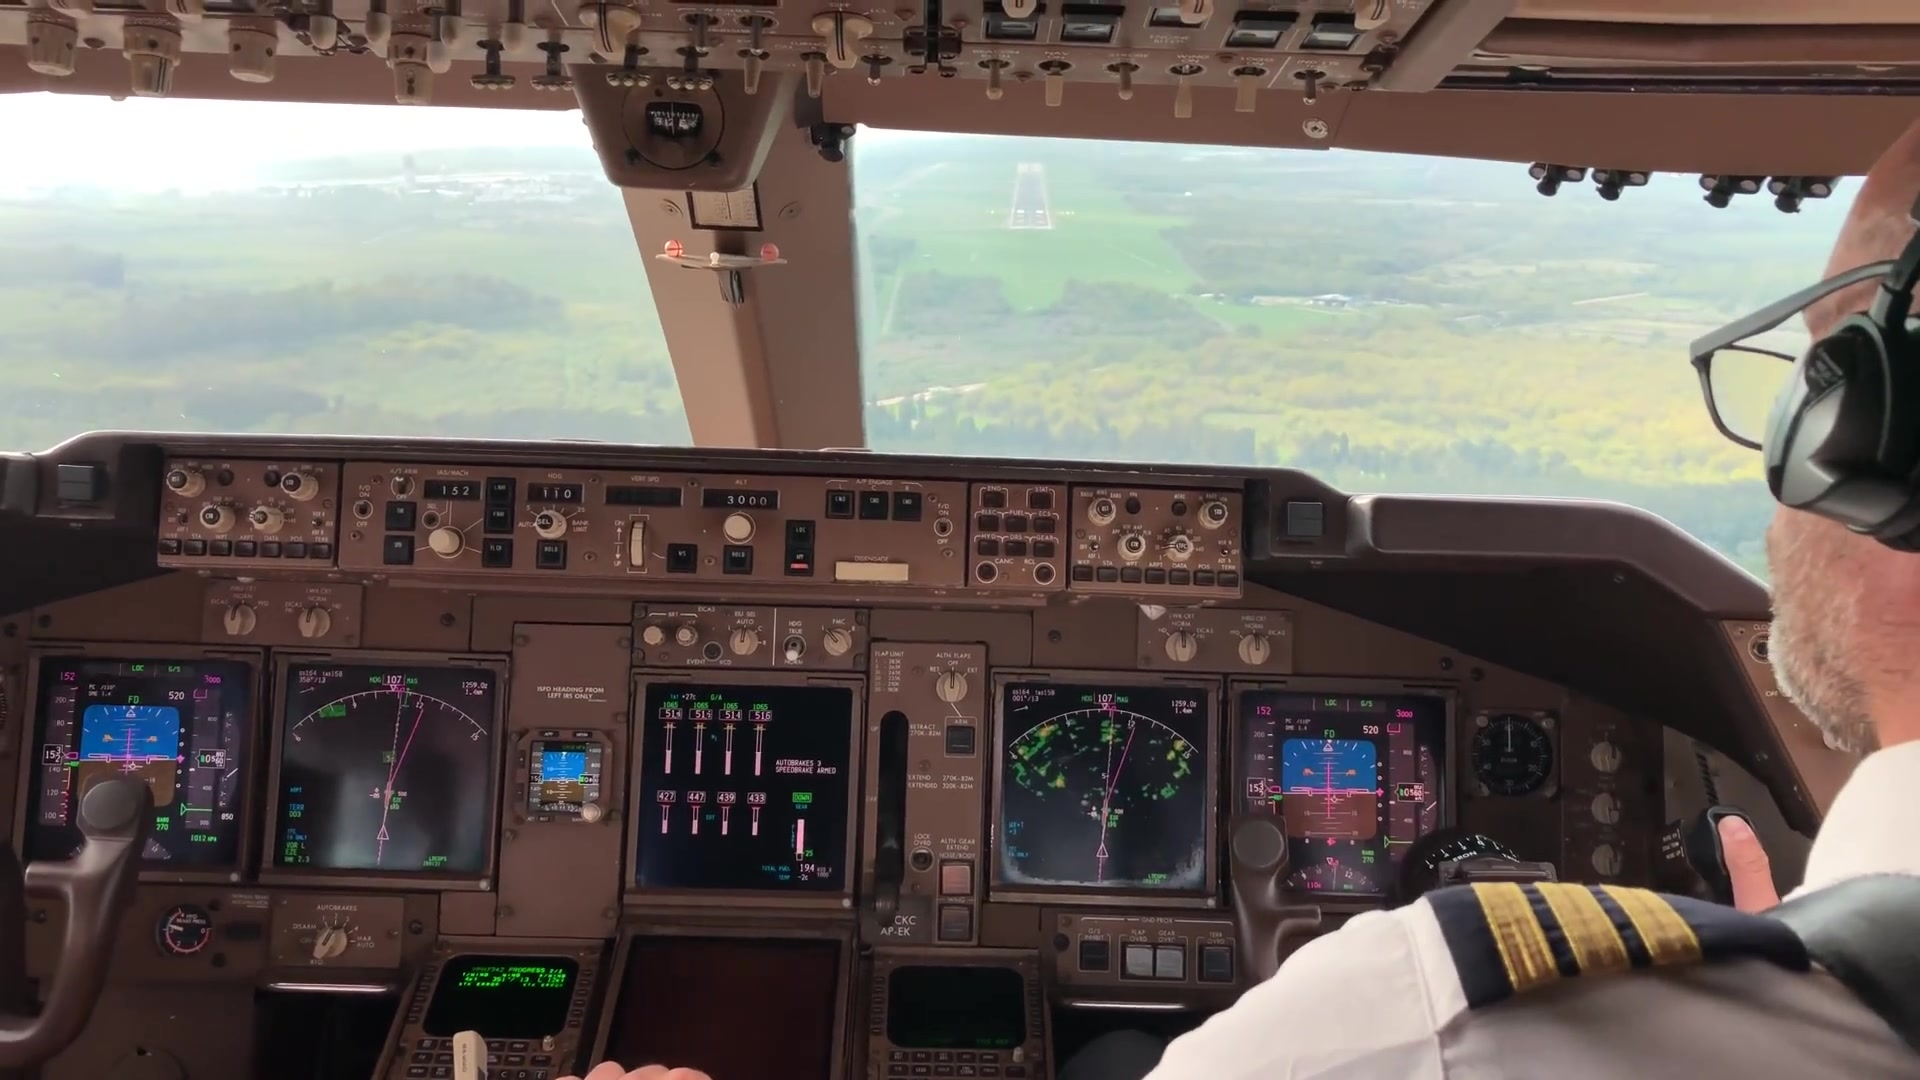runway: (1007, 156, 1054, 231)
